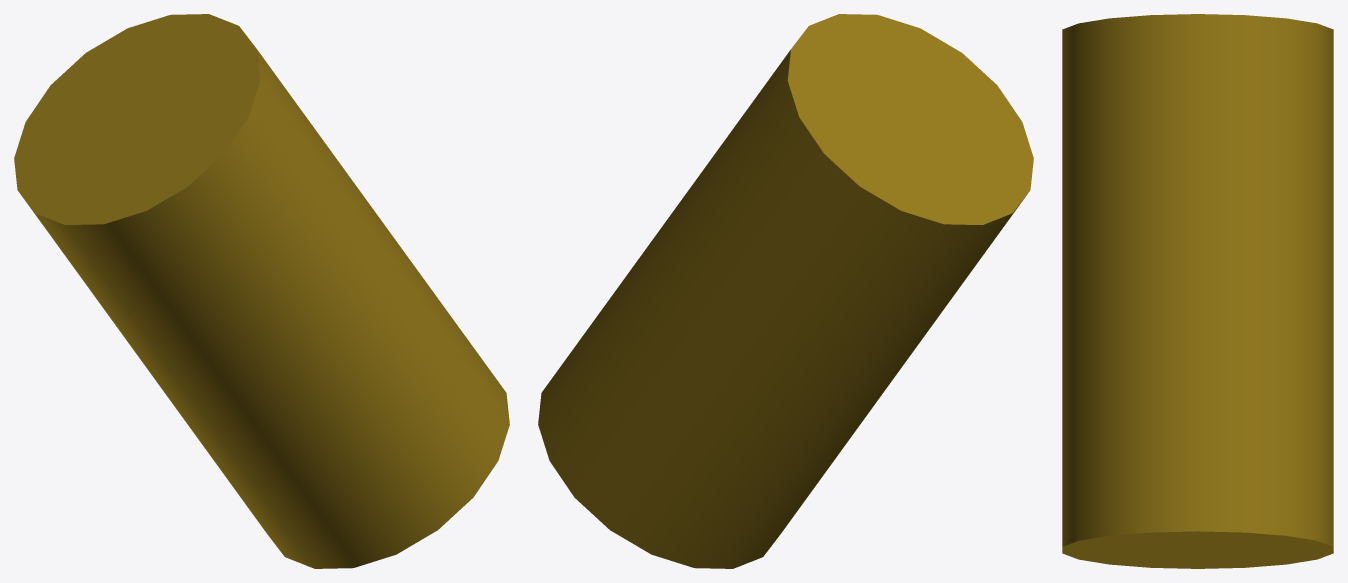
3 renders of one model, left to right at view 1: azimuth 30°, elevation 25°; view 2: azimuth 150°, elevation 25°; view 3: azimuth 270°, elevation 25°, orthographic.
Parts seen in each view (by area): view 1: Cylinder34-FACES.Mesh; view 2: Cylinder34-FACES.Mesh; view 3: Cylinder34-FACES.Mesh.
Boxes of the visible parts, <box> form: Cylinder34-FACES.Mesh: <box>14,14,509,568</box>; Cylinder34-FACES.Mesh: <box>538,14,1033,568</box>; Cylinder34-FACES.Mesh: <box>1062,14,1333,568</box>.
Bounding box in the file's own units: 0.0516 × 0.059 × 0.0272.
